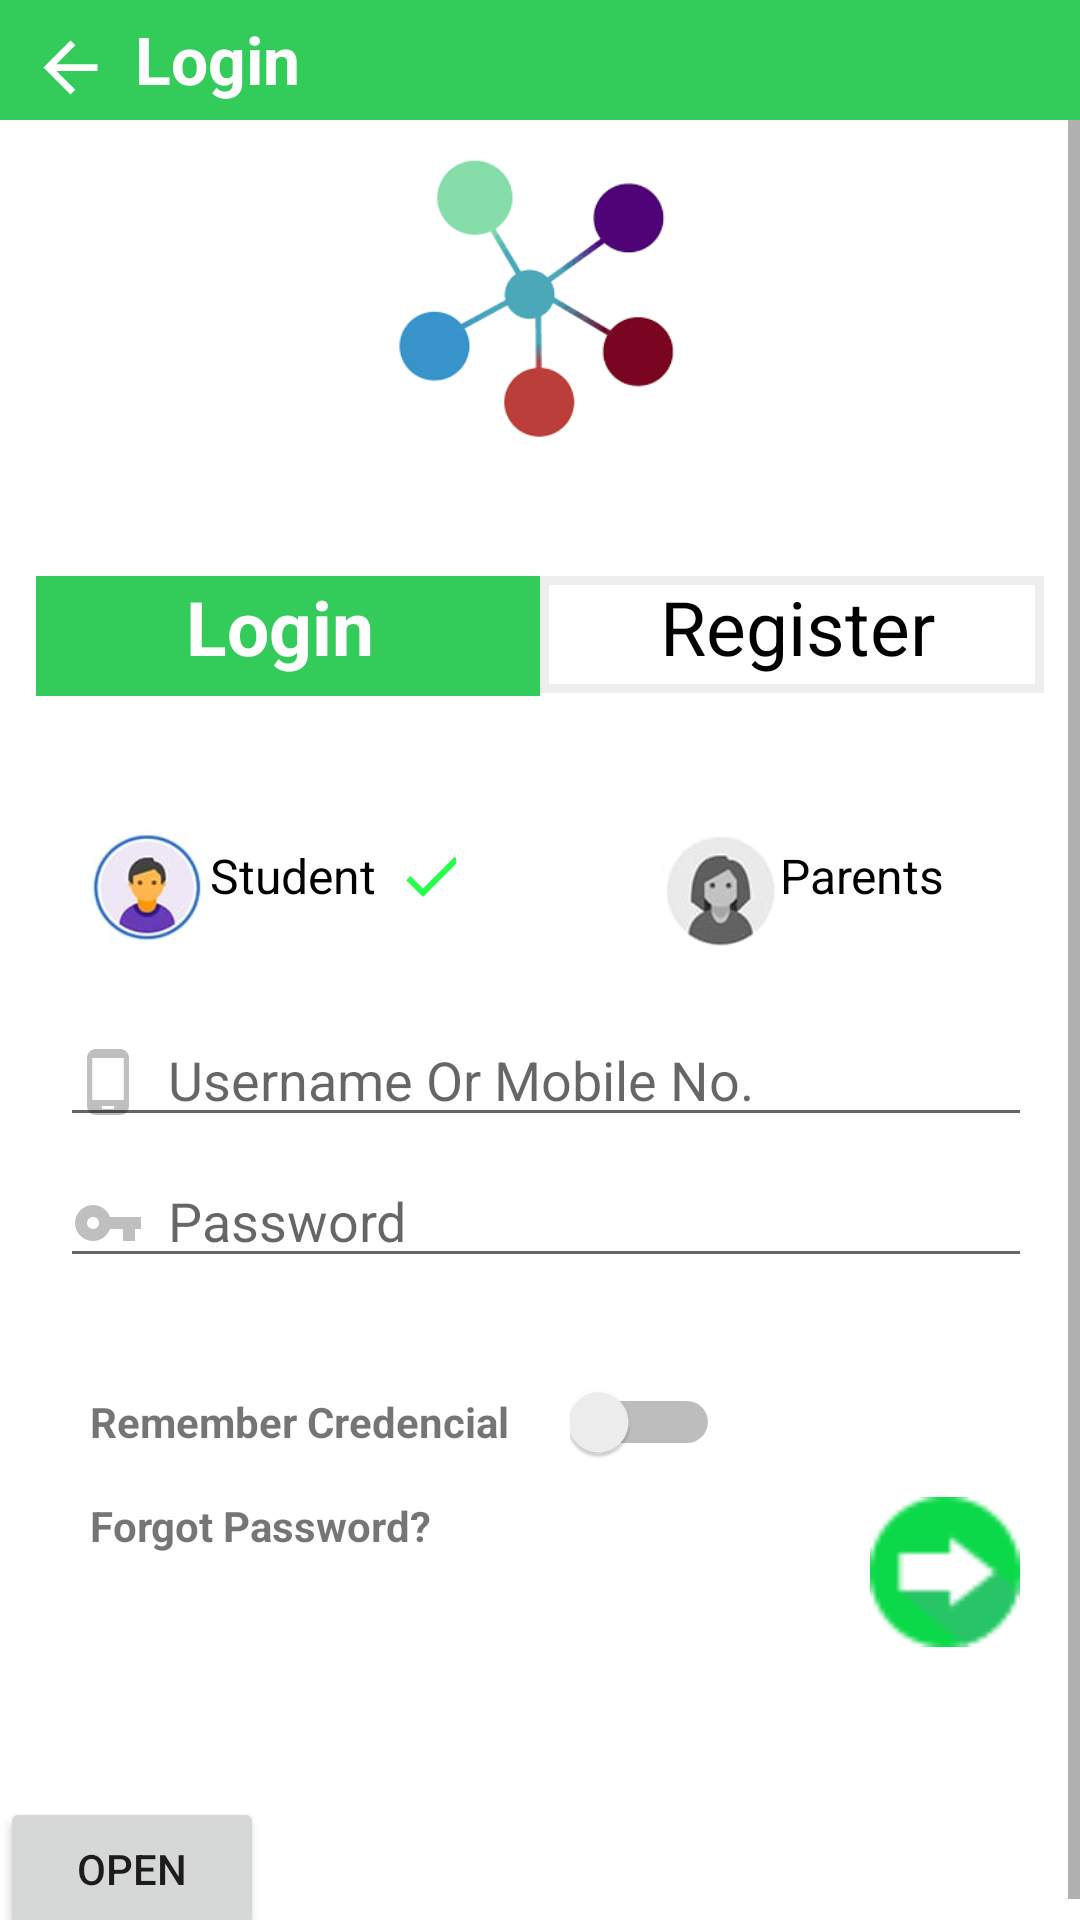

Locate icon controls on the screen. Image size 1080 x 1920, boxes as (x1, y1, x2, y2).
check: (406, 857, 456, 897)
next: (870, 1497, 1020, 1647)
